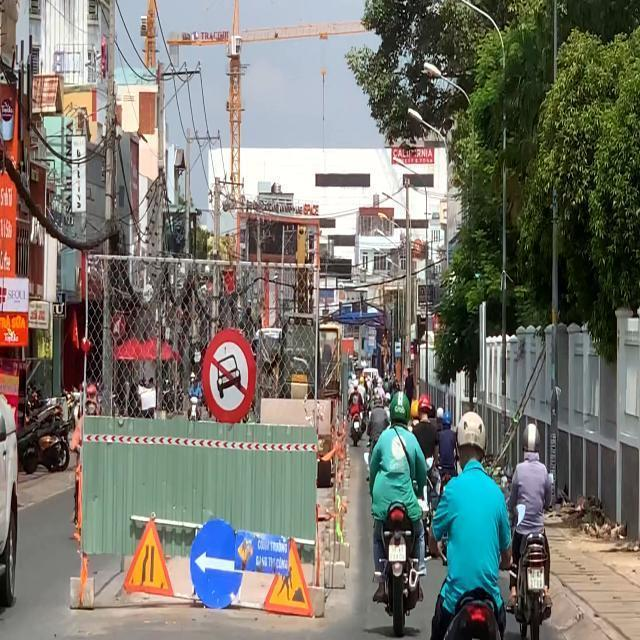103a-cam-oto: (200, 327, 256, 423)
205-duong-giao-nhau: (123, 518, 175, 598)
227-cong-truong: (262, 540, 314, 618)
301c-cac-xe-chi-duoc-re-trai: (188, 520, 246, 608)
